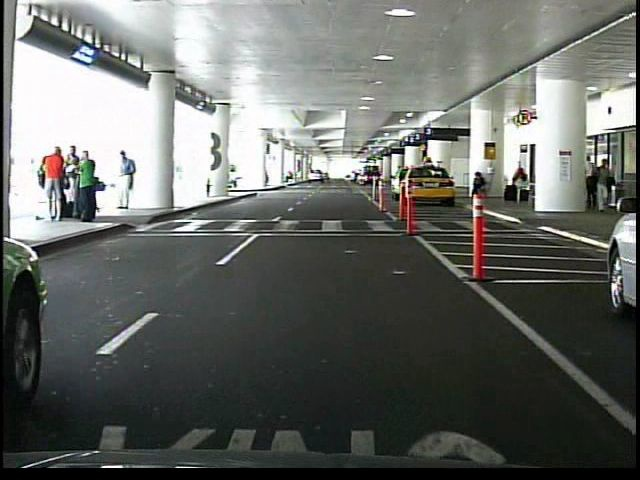person: (46, 145, 69, 222), (77, 151, 99, 226), (115, 151, 139, 214), (590, 153, 614, 214), (69, 145, 83, 212), (512, 160, 528, 205), (469, 170, 487, 200)
